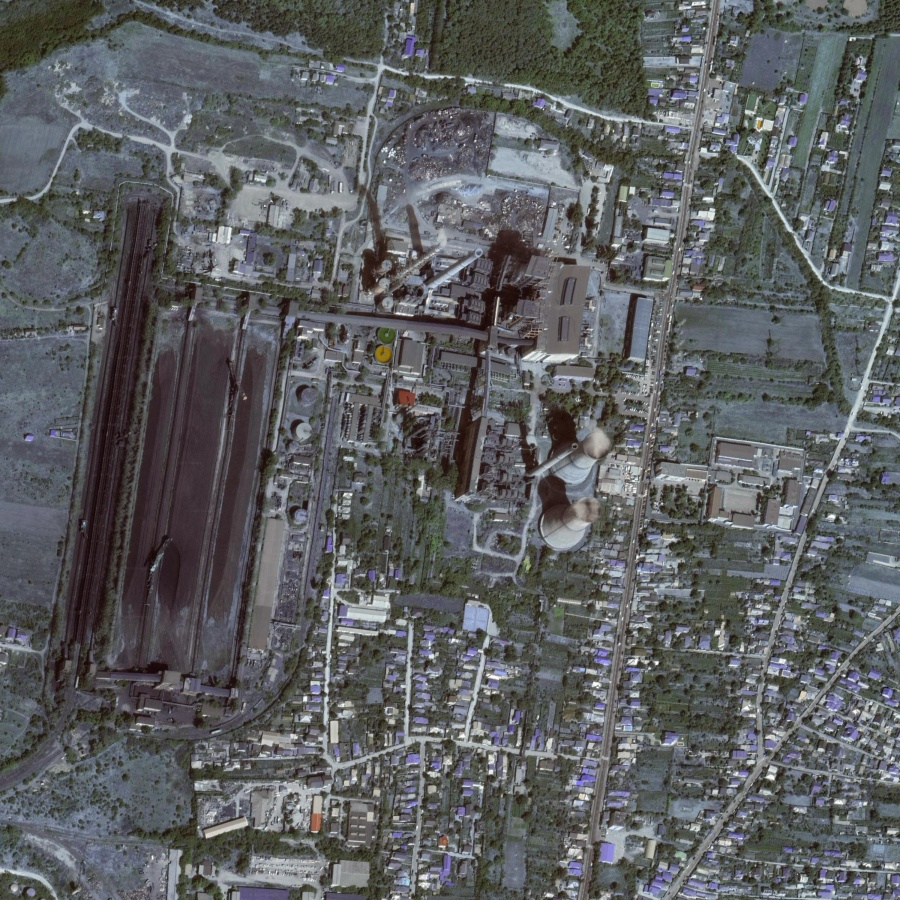PowerPlant: (68, 171, 621, 719)
